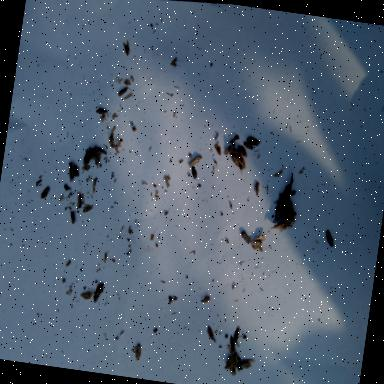pbw: (322, 228, 336, 246), (204, 324, 218, 342), (224, 360, 237, 376), (272, 204, 282, 224), (238, 230, 252, 244), (187, 154, 201, 168), (280, 208, 296, 219), (228, 152, 240, 166), (212, 140, 222, 156), (234, 155, 246, 168), (121, 40, 130, 56), (134, 343, 142, 361), (282, 182, 291, 198), (236, 144, 248, 156), (68, 164, 80, 176), (245, 136, 259, 146), (93, 146, 107, 156), (227, 133, 239, 144), (232, 324, 240, 340), (66, 166, 74, 182), (228, 334, 236, 350), (190, 165, 199, 179), (82, 151, 91, 165), (81, 202, 92, 213), (252, 181, 260, 196), (118, 85, 128, 97), (75, 192, 82, 208), (68, 210, 76, 224), (40, 186, 49, 198), (94, 150, 100, 168), (94, 107, 107, 114), (273, 168, 282, 178), (286, 200, 294, 211), (242, 142, 253, 150), (240, 362, 252, 369), (224, 363, 236, 370), (124, 90, 132, 100), (162, 174, 172, 182), (242, 358, 255, 364), (232, 338, 240, 347), (225, 342, 232, 352), (223, 145, 229, 156), (170, 56, 176, 66), (98, 115, 104, 123), (82, 164, 90, 170), (164, 180, 170, 188), (58, 194, 63, 201), (110, 258, 114, 262)
